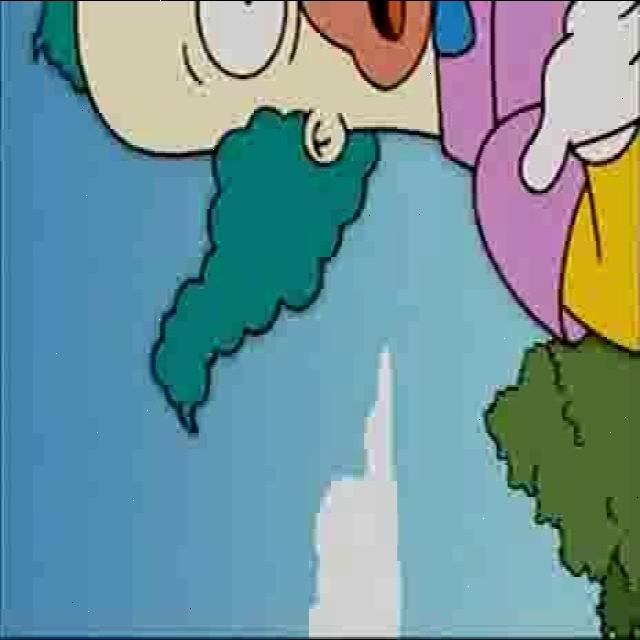Krusty the Clown: (31, 0, 448, 422)
